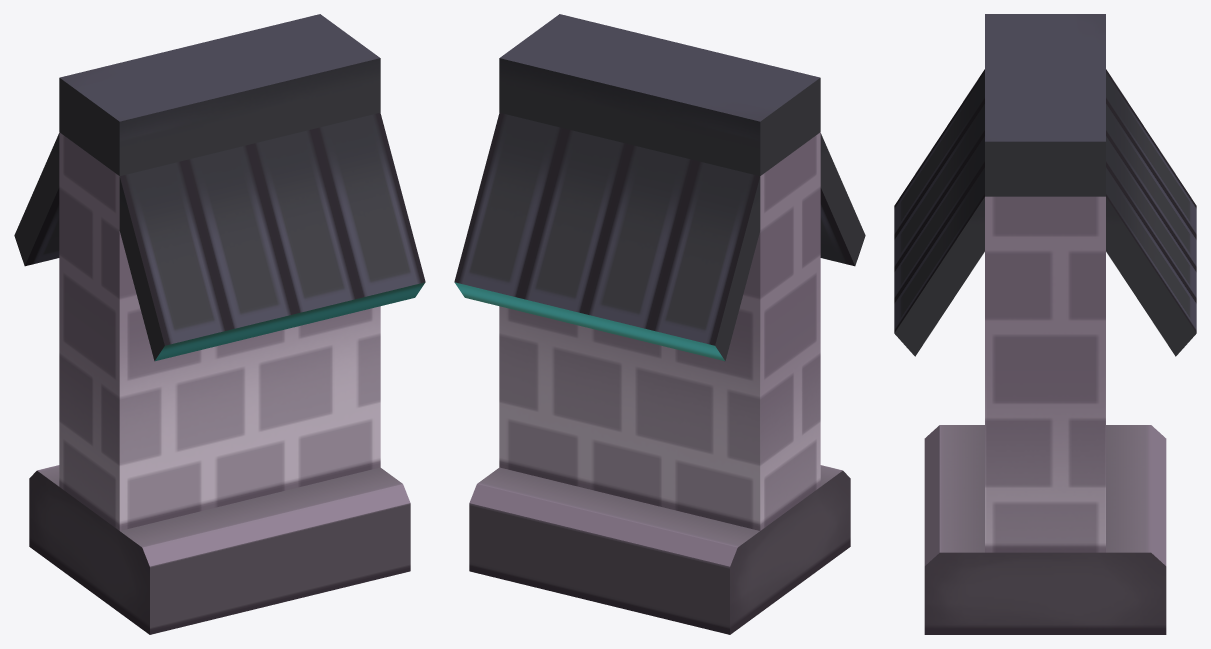
File: Wall_02.FBX
3 views of the same model, side by side, from view 1: azimuth 30°, elevation 25°; view 2: azimuth 150°, elevation 25°; view 3: azimuth 270°, elevation 25° (orthographic).
Parts seen in each view (by area): view 1: Wall_02; view 2: Wall_02; view 3: Wall_02.
Boxes of the visible parts, left/top/right/bottom form: Wall_02: left=14, top=14, right=425, bottom=634; Wall_02: left=454, top=14, right=865, bottom=634; Wall_02: left=894, top=14, right=1196, bottom=634.
Bounding box in the file's own units: 100 × 180 × 100.
